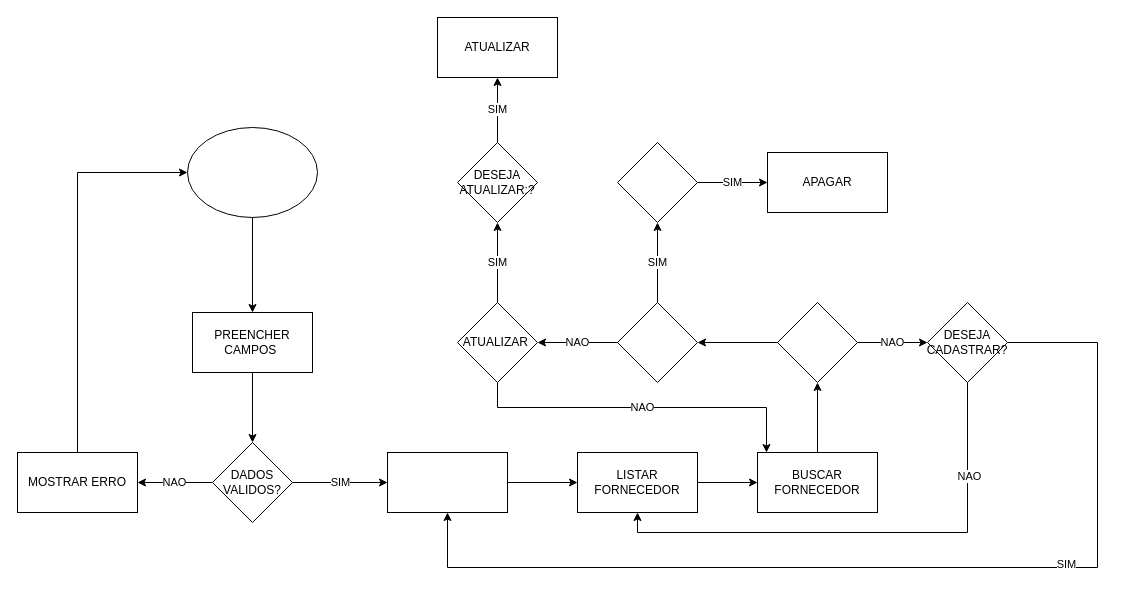
Image size: 1123x593. Some labels were removed from this diagram. The box of each missing label's shape, as (x1, y1, x2, y2) in pixels:
APAGAR?: (616, 302, 698, 382)
CADASTRAR FORNECEDOR: (386, 452, 508, 512)
DADOS VALIDOS ?: (776, 302, 858, 382)
DESEJA REALMENTE APAGAR?: (616, 142, 698, 222)
INICIO: (186, 126, 318, 218)
